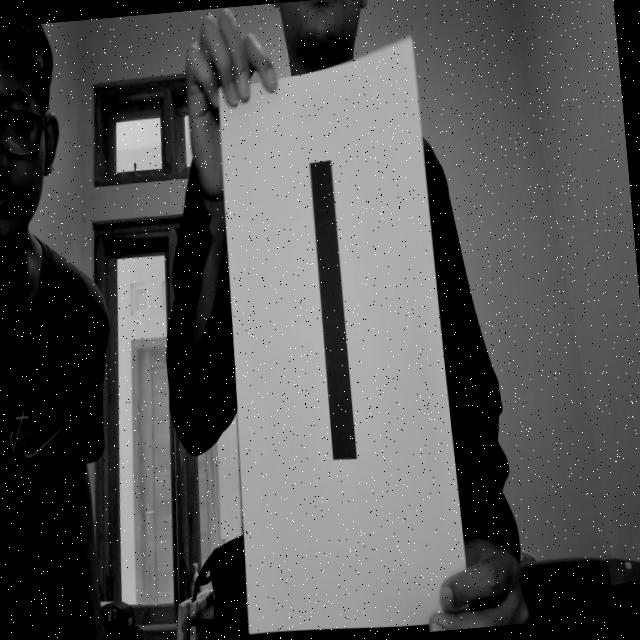i: (273, 126, 389, 496)
